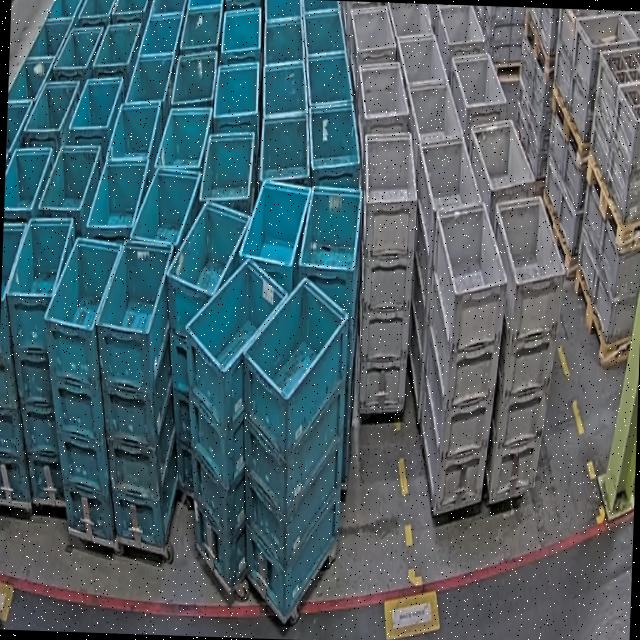4G: (483, 193, 568, 506), (426, 200, 510, 516), (354, 130, 419, 414)
B4: (233, 274, 350, 620), (176, 254, 290, 594), (87, 235, 188, 550), (157, 197, 252, 495), (36, 232, 124, 546), (0, 215, 76, 502)
